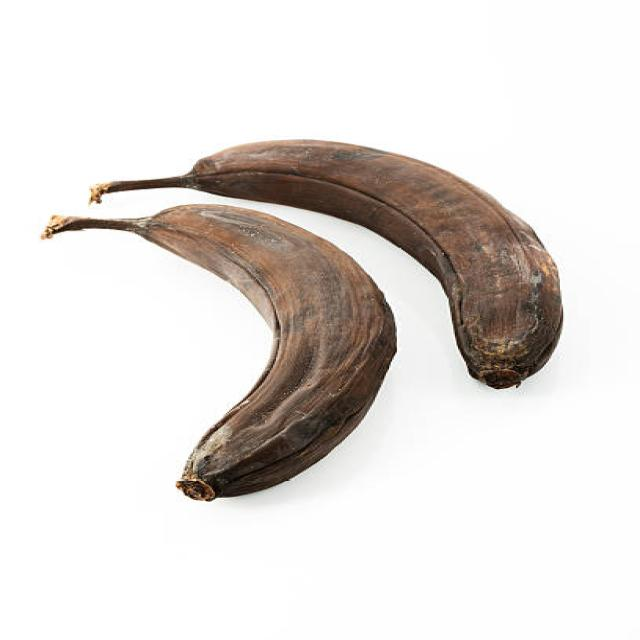Rotten: (42, 203, 401, 500)
